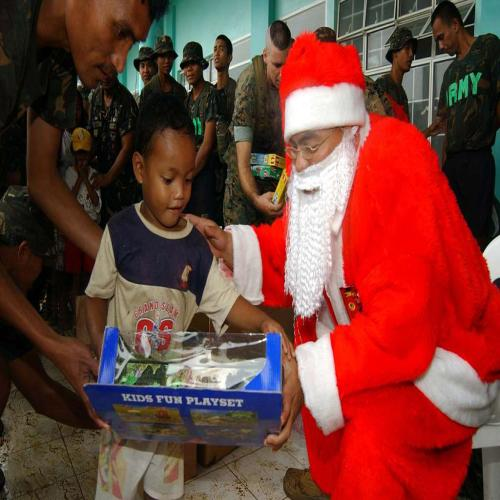Santa: (185, 32, 500, 500)
